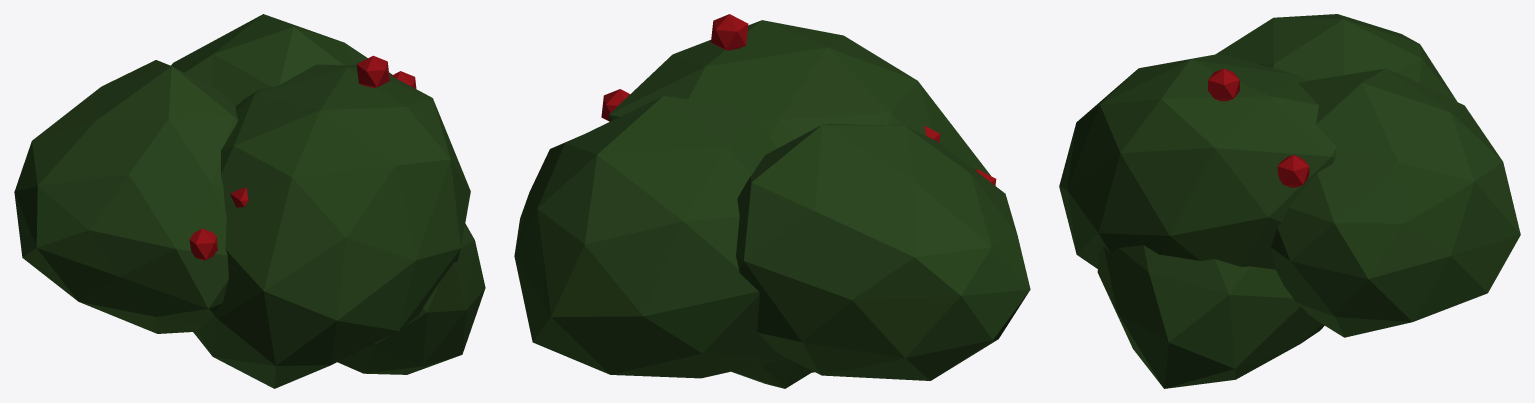
File: arbusto_b.fbx
3 renders of one model, left to right at view 1: azimuth 30°, elevation 25°; view 2: azimuth 150°, elevation 25°; view 3: azimuth 270°, elevation 25°, orthographic. The views are drawn at different scales.
Visible parts, largest first — view 1: arbusto_b; view 2: arbusto_b; view 3: arbusto_b.
Boxes of the visible parts, x1=… form: arbusto_b: x1=14, y1=14, x2=485, y2=388; arbusto_b: x1=514, y1=14, x2=1030, y2=388; arbusto_b: x1=1059, y1=14, x2=1520, y2=388.
Bounding box in the file's own units: 2.05 × 1.45 × 1.98.
